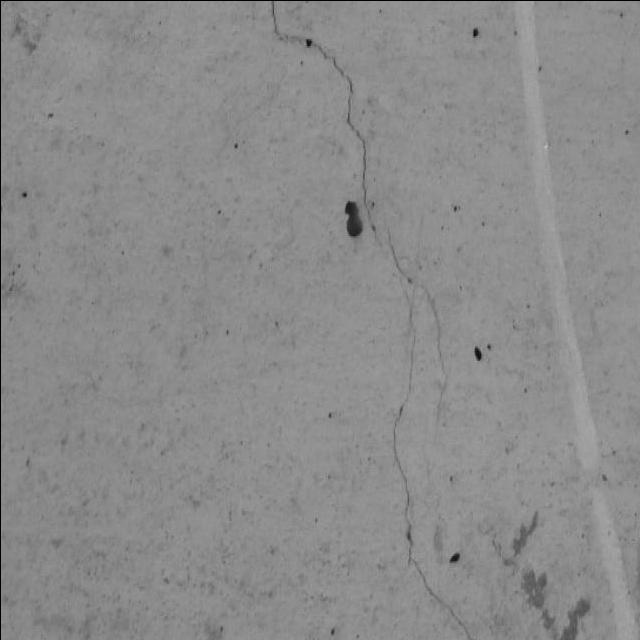SurfaceCrack: (220, 0, 485, 640)
